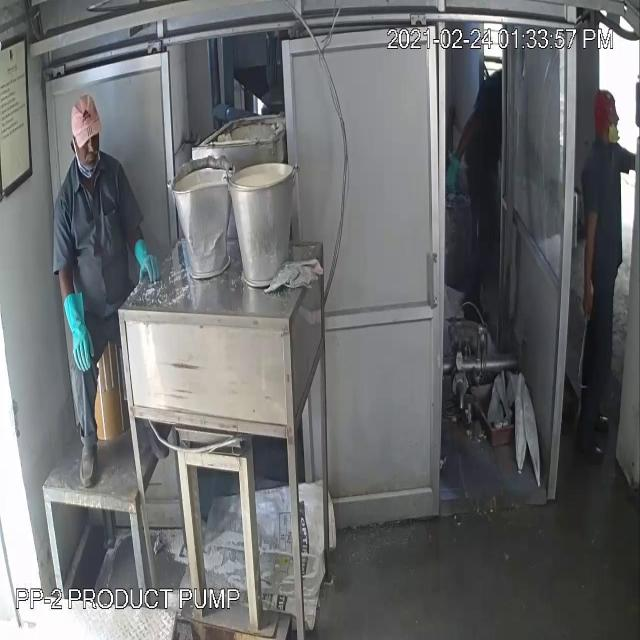no-helmet: (62, 91, 110, 157), (590, 79, 624, 130)
